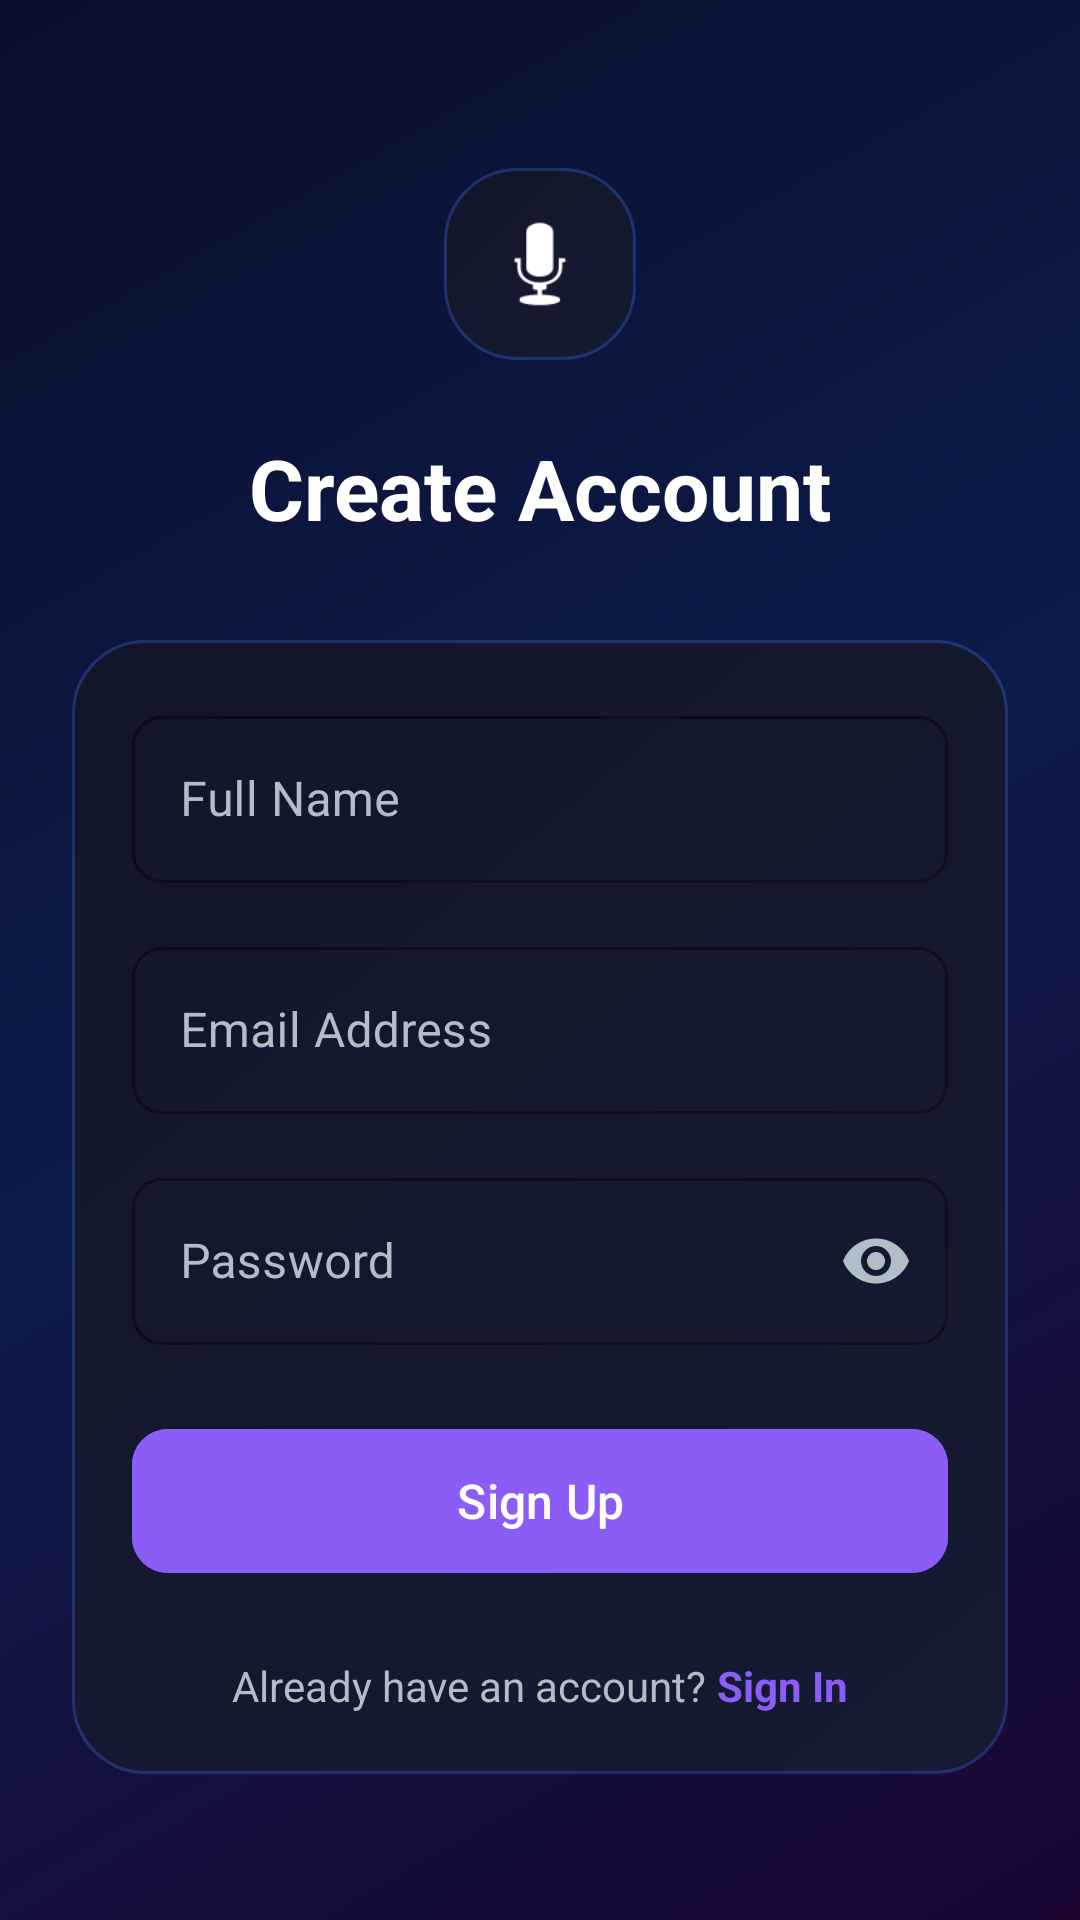

Screen size 1080x1920. Icon name, then its center in pixels as point (x, y):
speak now: point (540, 264)
